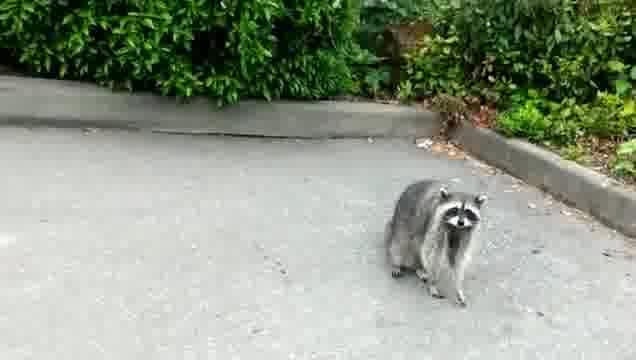raccoon: (384, 178, 488, 312)
